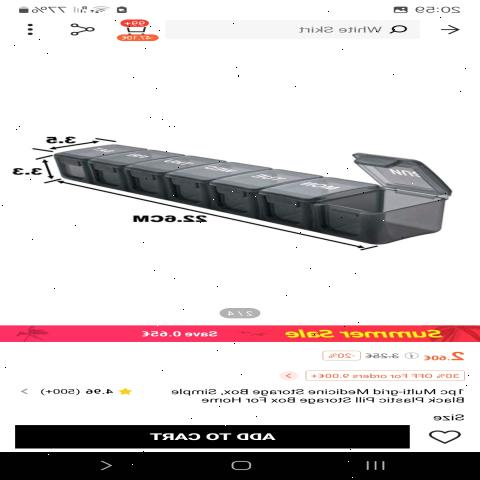PillBox: (9, 101, 462, 280)
